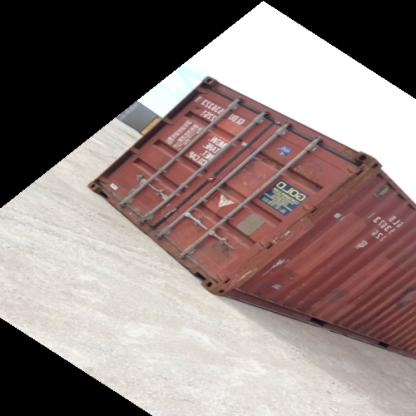Damage: (387, 275, 414, 325), (238, 151, 276, 186), (206, 224, 234, 260), (327, 279, 357, 309), (105, 172, 121, 192)
